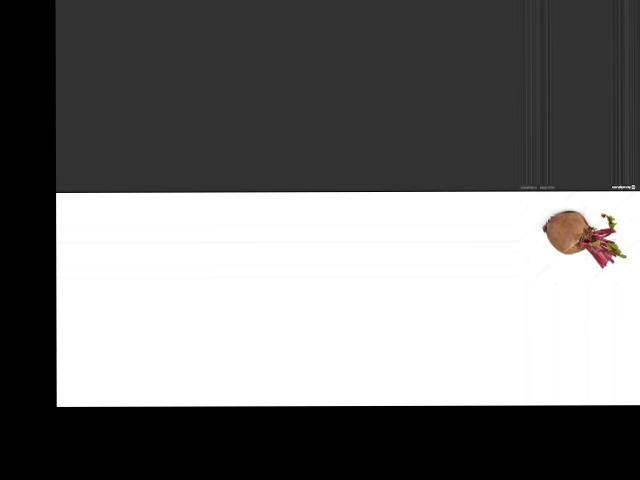beet: (542, 210, 626, 268)
